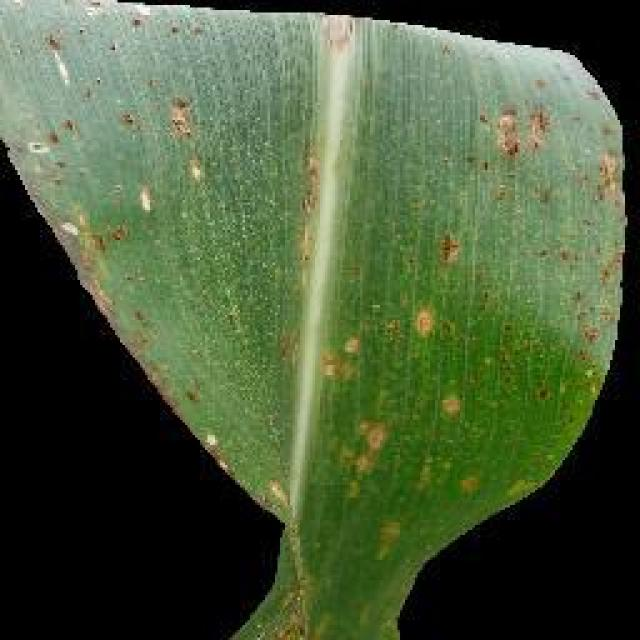Corn Common Rust: (85, 95, 640, 505)
